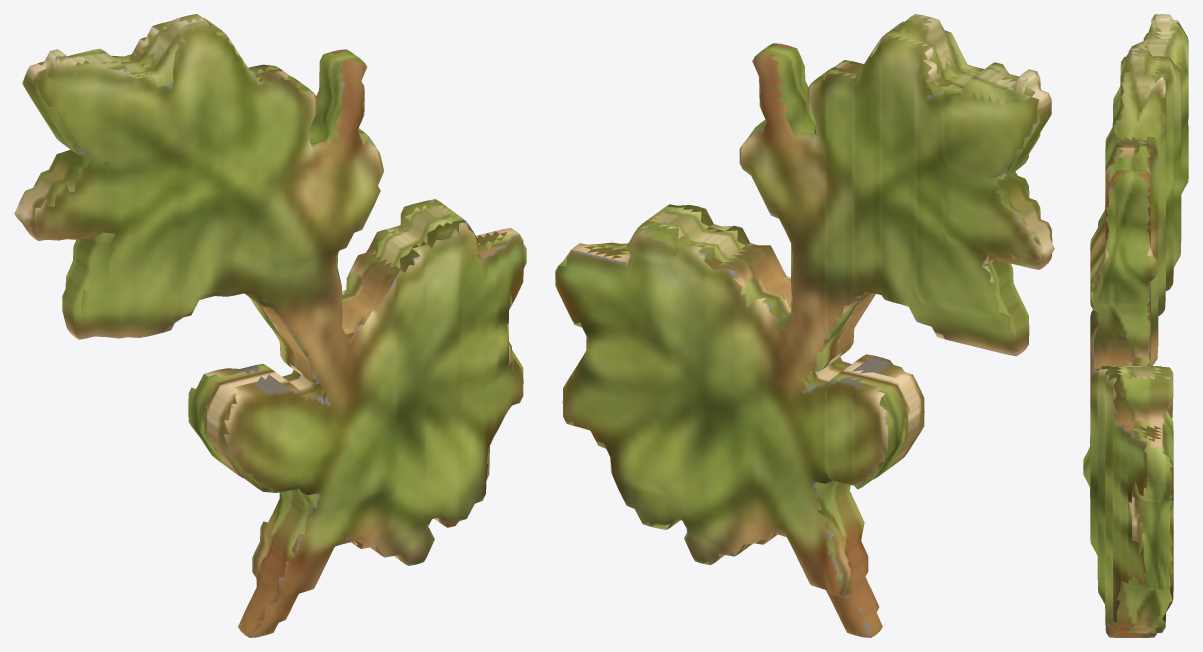
File: potion-ivy.glb
3 renders of one model, left to right at view 1: azimuth 30°, elevation 25°; view 2: azimuth 150°, elevation 25°; view 3: azimuth 270°, elevation 25°, orthographic. The views are drawn at different scales.
Size of the model in its own units: 0.8267 by 1 by 0.1796.
Materials: 1 (1 with a texture image).
